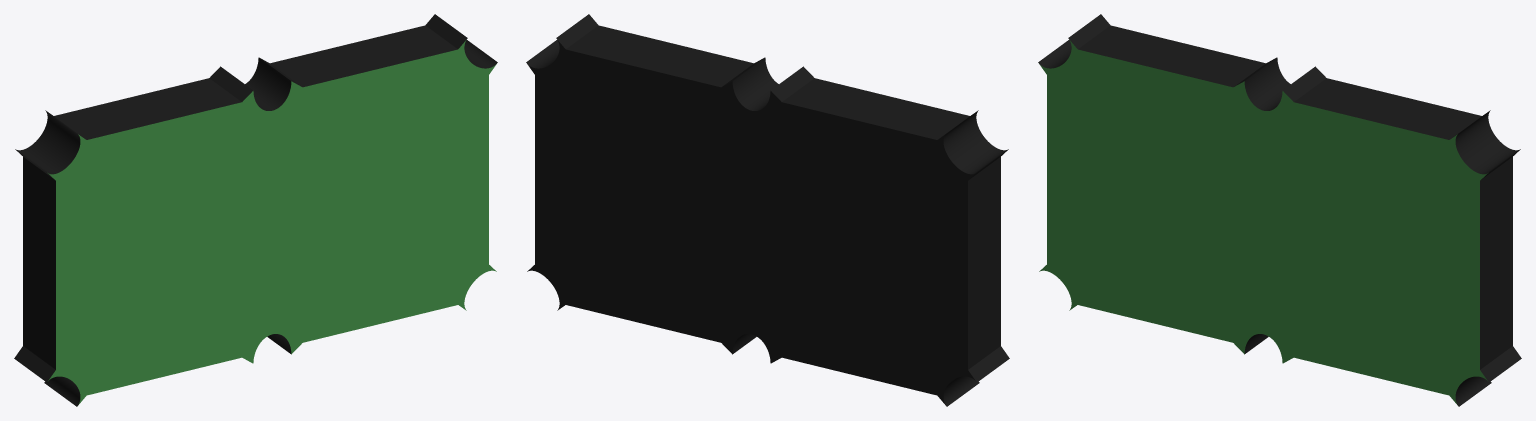
File: campo_verde.obj
3 renders of one model, left to right at view 1: azimuth 30°, elevation 25°; view 2: azimuth 150°, elevation 25°; view 3: azimuth 330°, elevation 25°, orthographic.
Visible parts, largest first — view 1: Corpo53; view 2: Corpo53; view 3: Corpo53.
Boxes of the visible parts, box(x1,y1,x2,y2) form: Corpo53: box(14, 14, 497, 406); Corpo53: box(526, 14, 1009, 406); Corpo53: box(1038, 14, 1521, 406).
Size of the model in its own units: 475 by 275 by 60.
